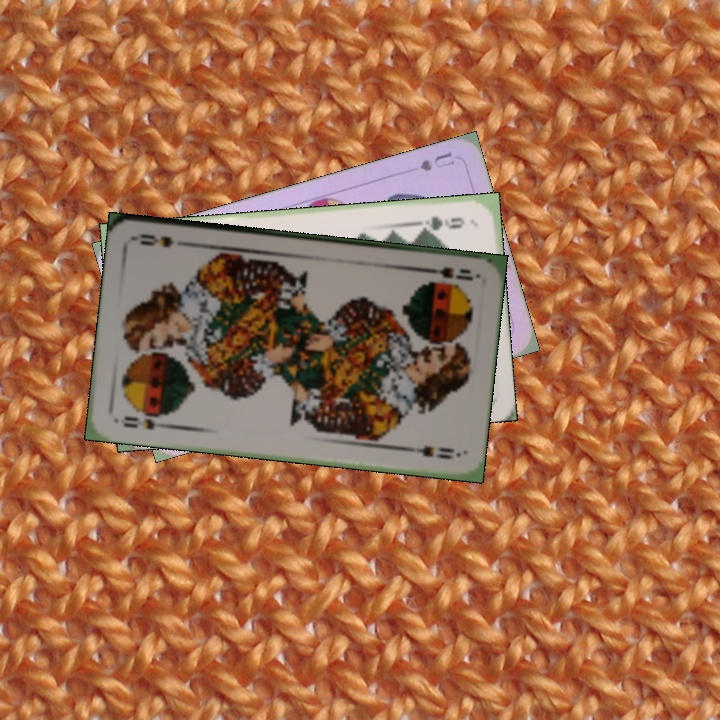G9: (415, 212, 468, 233)
SO: (420, 263, 479, 283), (119, 412, 171, 432)
SU: (416, 148, 458, 174)
